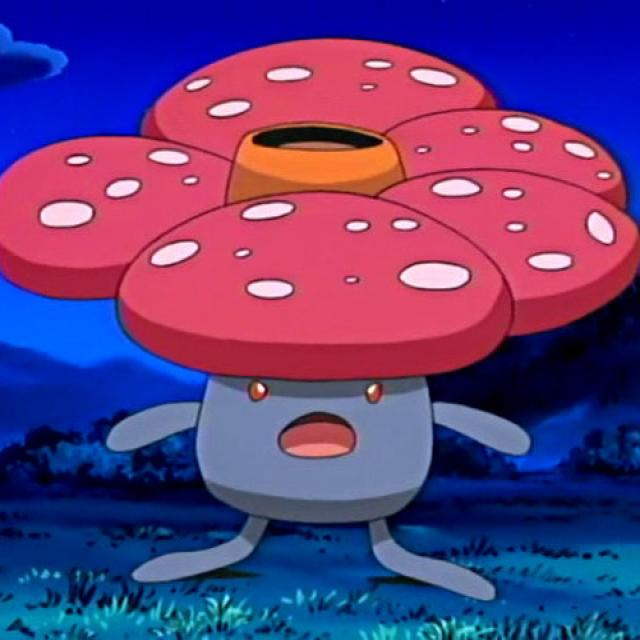Vileplume: (113, 110, 532, 609)
